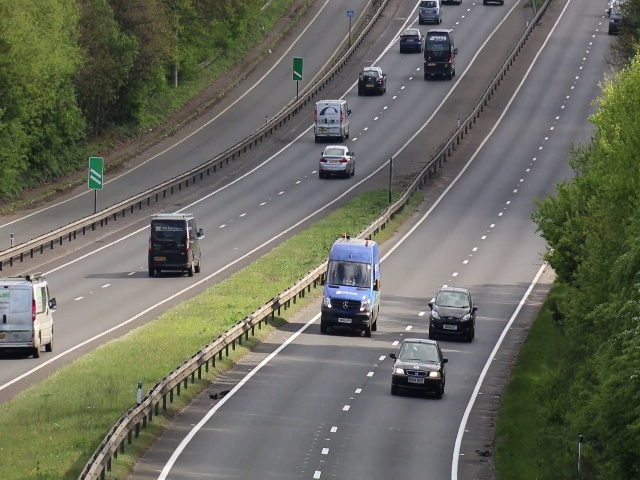car: (322, 244, 379, 336), (1, 279, 57, 361), (147, 213, 202, 277), (391, 340, 446, 397), (429, 289, 474, 341), (423, 28, 459, 81), (313, 99, 351, 142), (320, 143, 356, 178), (355, 66, 388, 96), (400, 28, 423, 52), (418, 1, 441, 23)
